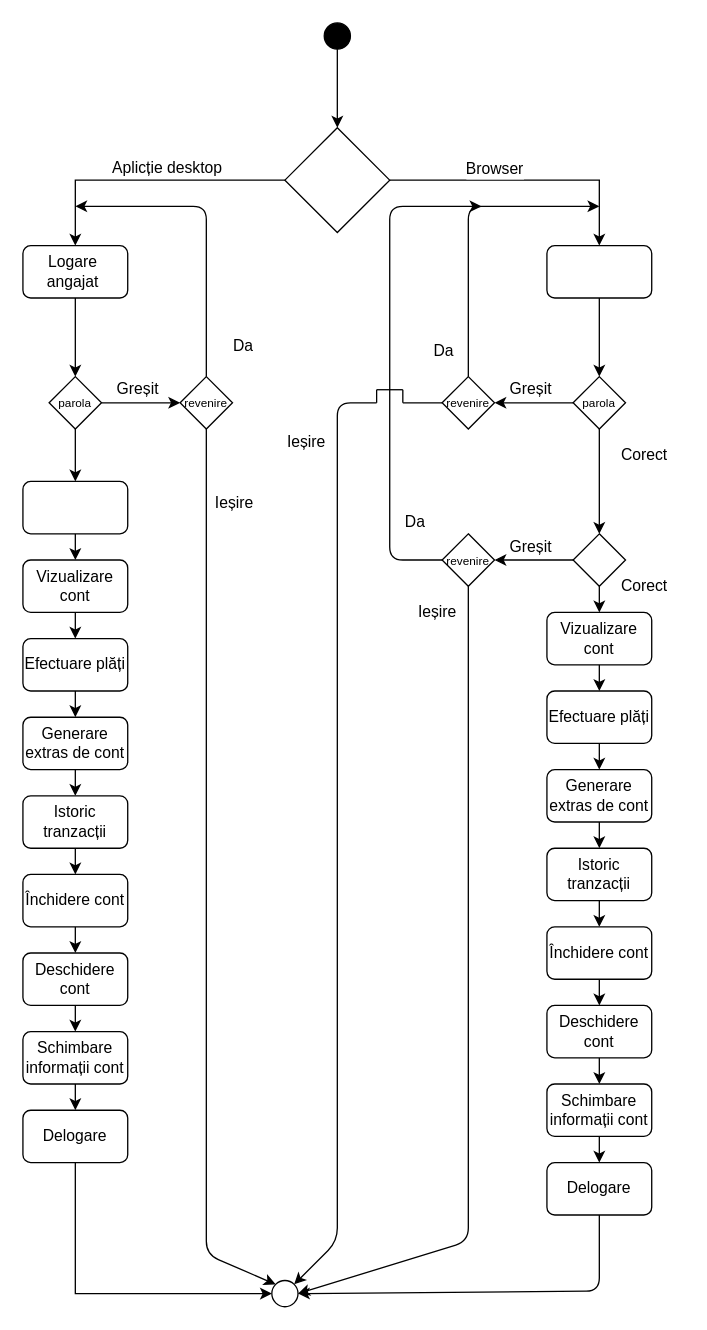
Some shapes in this 707 by 1330 pixel diagram are drawn without their labels. Here are the shapes that lost their labels. From the top down, the centre of each, then its label:
At pixel 337 179: "Sursă logare".
At pixel 599 271: "Logare client".
At pixel 75 507: "Înregistrare client".
At pixel 599 559: "token".
